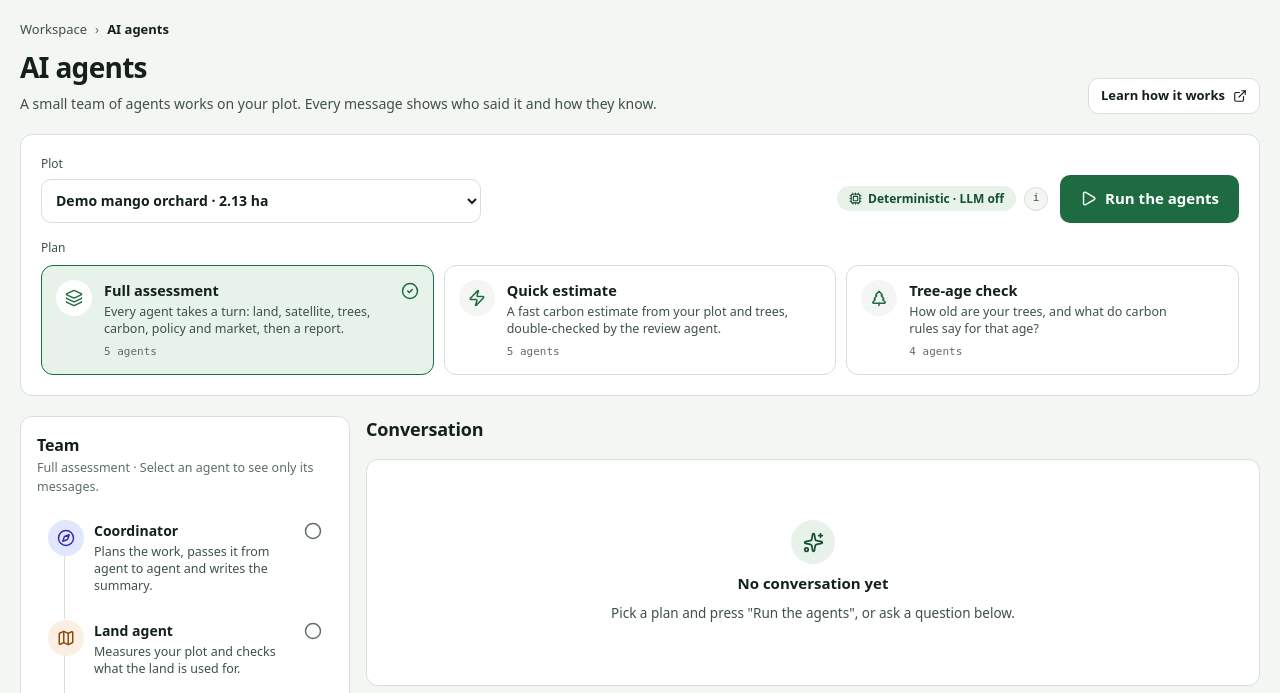
Test case: AgentsPage › shows what went wrong when a run stops early
What coordinates should you click on to do the following:
click the button "Run the agents"
I would click on:
 (1150, 198)
Its box is 1060,174 -> 1239,222.
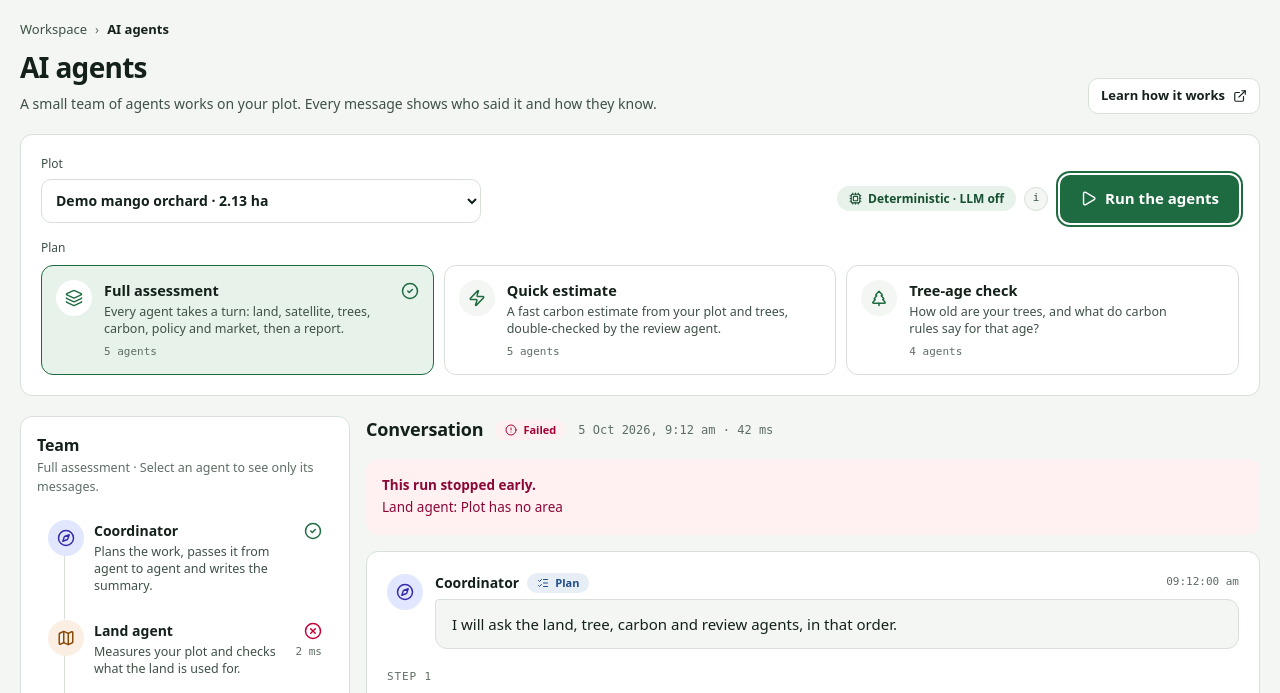
Check: the button with aria-label "Land agent: Failed" is shown, box 37,609 -> 333,689
Check: the text "This run stopped early." is shown, box 382,476 -> 536,494
Check: the text "Land agent: Plot has no area" is shown, box 382,498 -> 563,516
